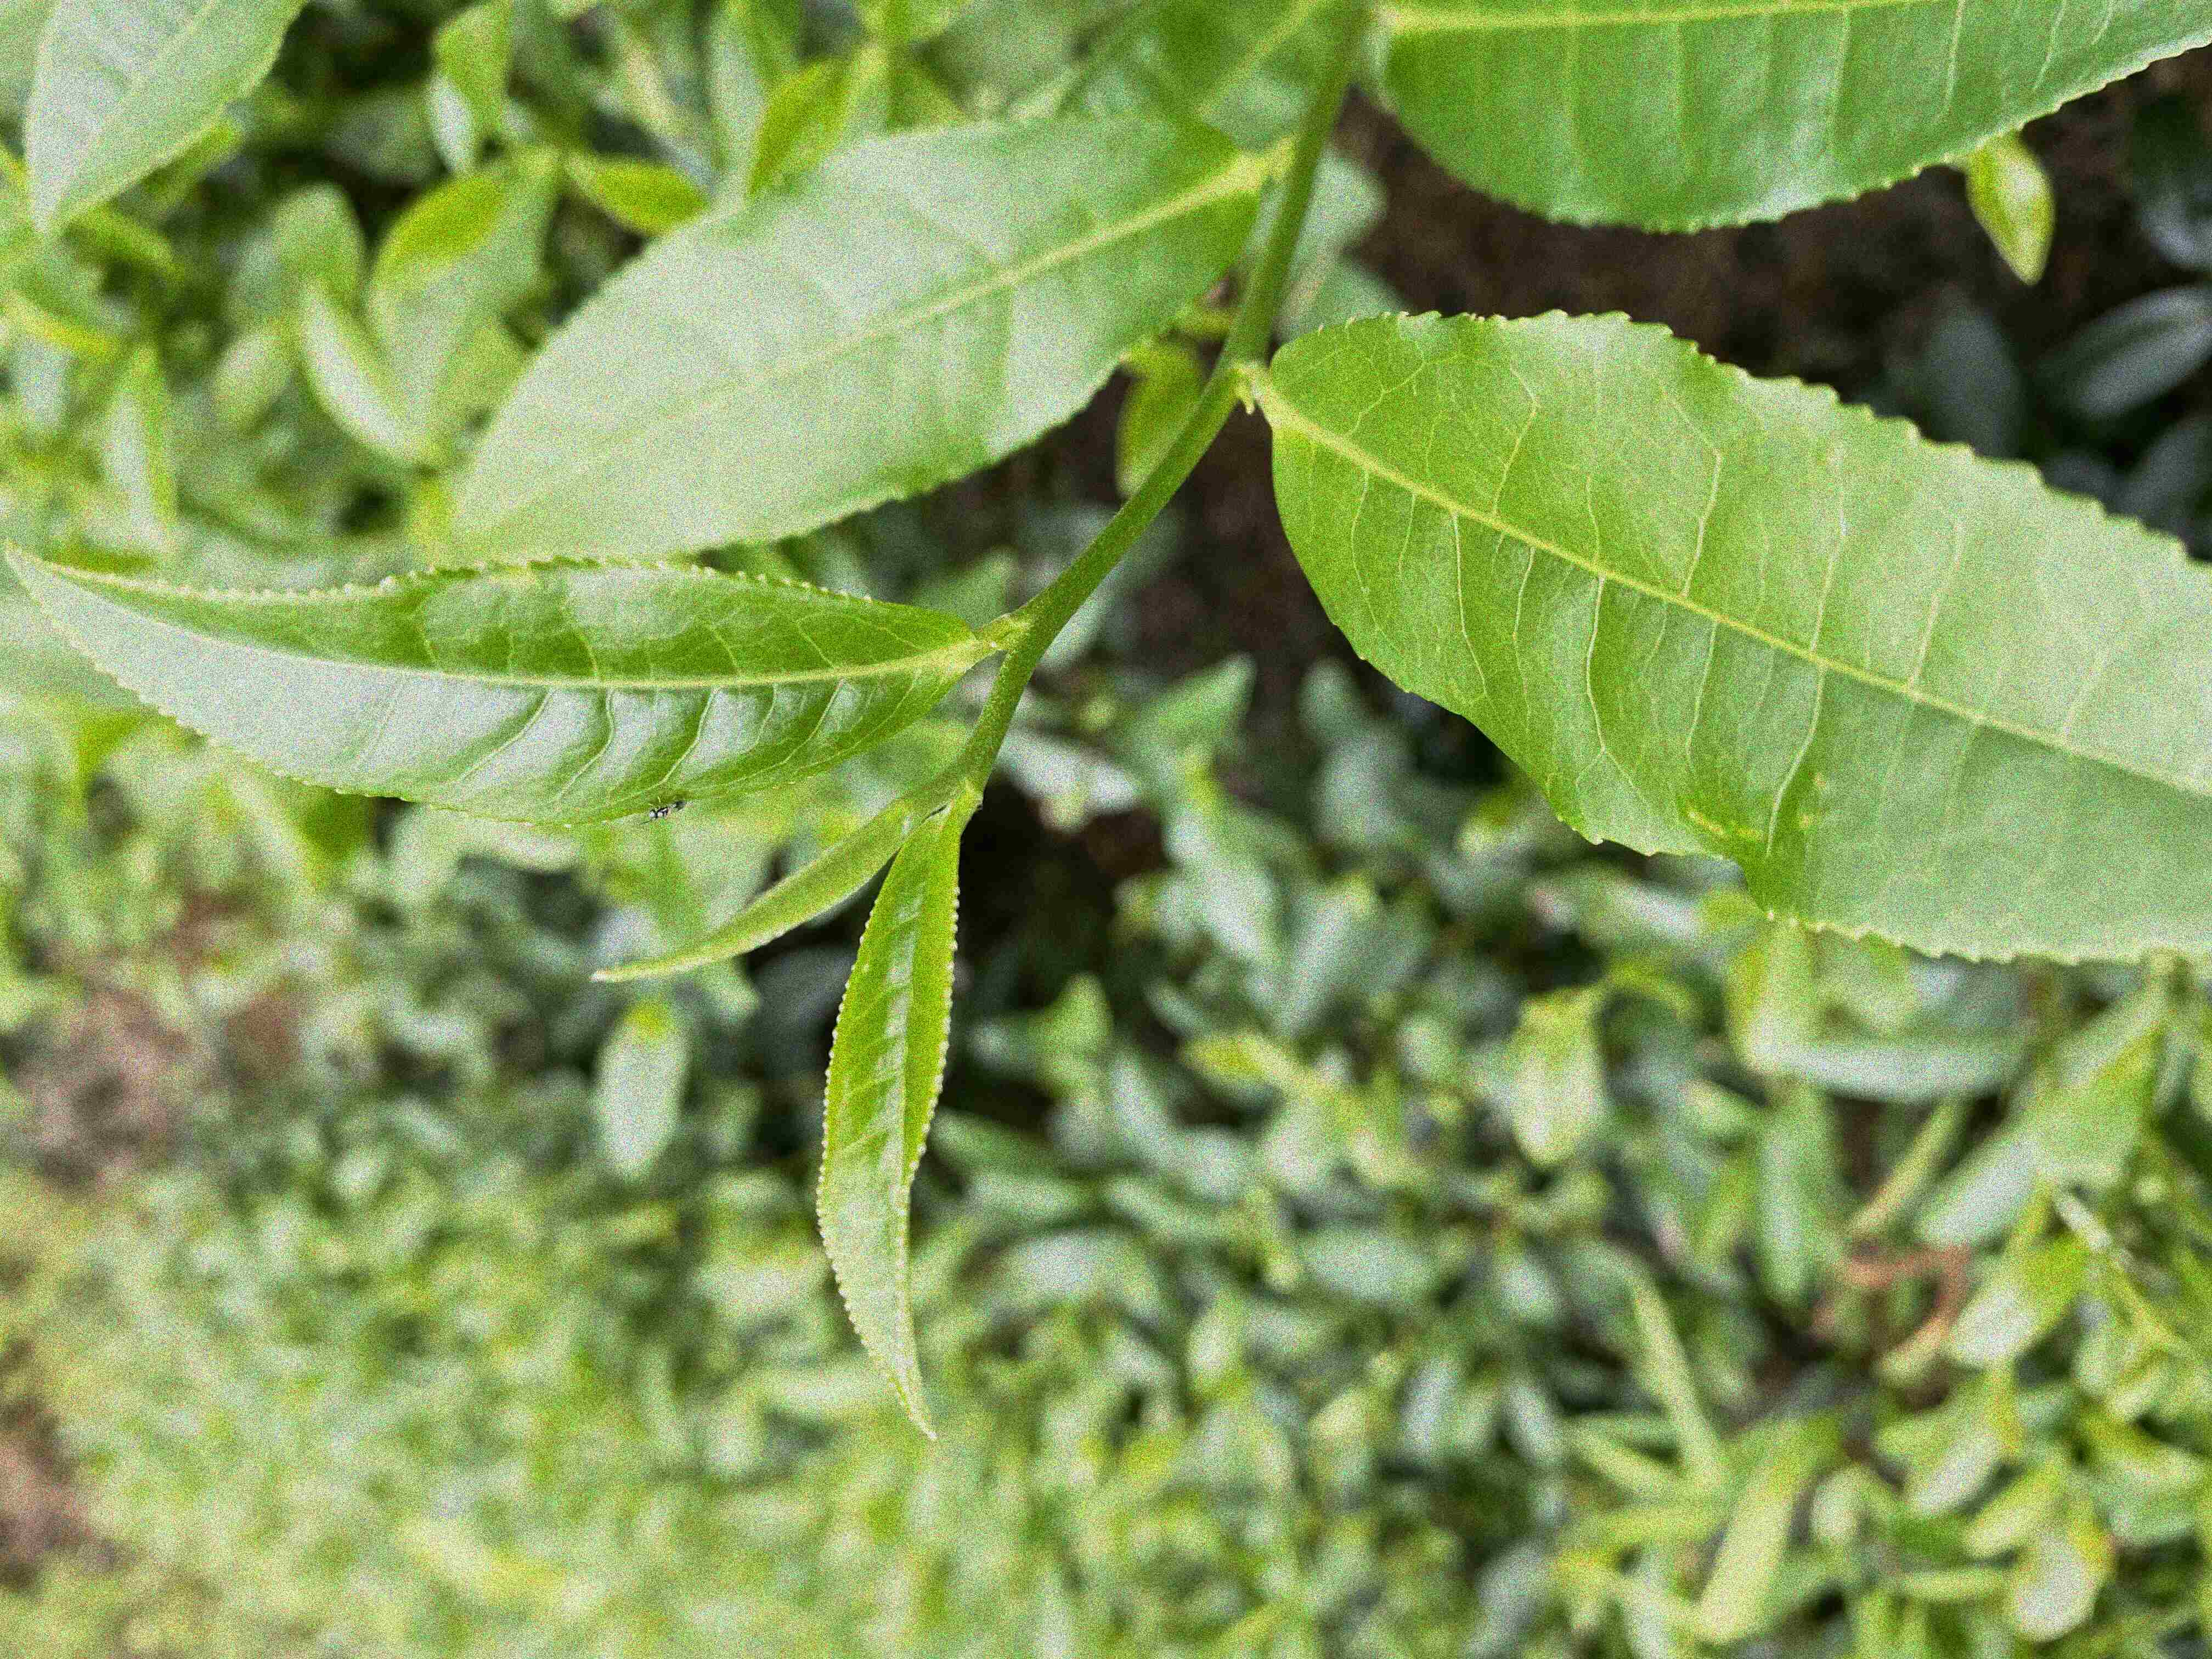healthy: (1259, 307, 2209, 967), (5, 537, 982, 828), (813, 807, 963, 1441)
